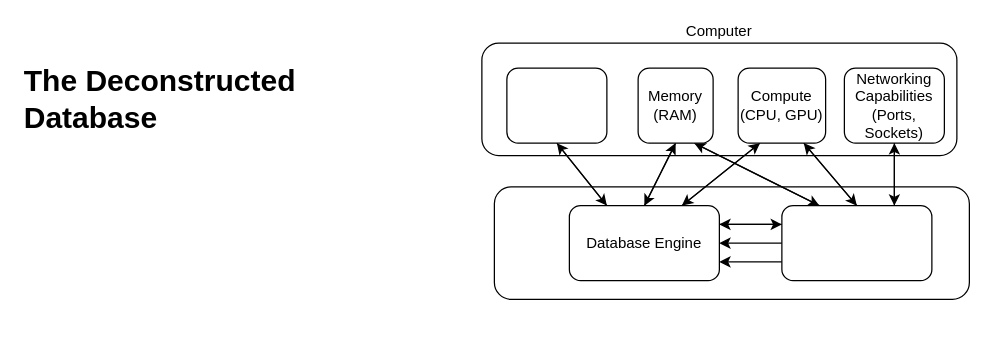
Image size: 991x346. Some labels were removed from this diagram. Here are the shapes that lost their labels. From the top down, the box of each, then its label:
(506, 67, 607, 143): Filesystem
(493, 186, 969, 299): Applications
(781, 204, 932, 281): HTTP Server
